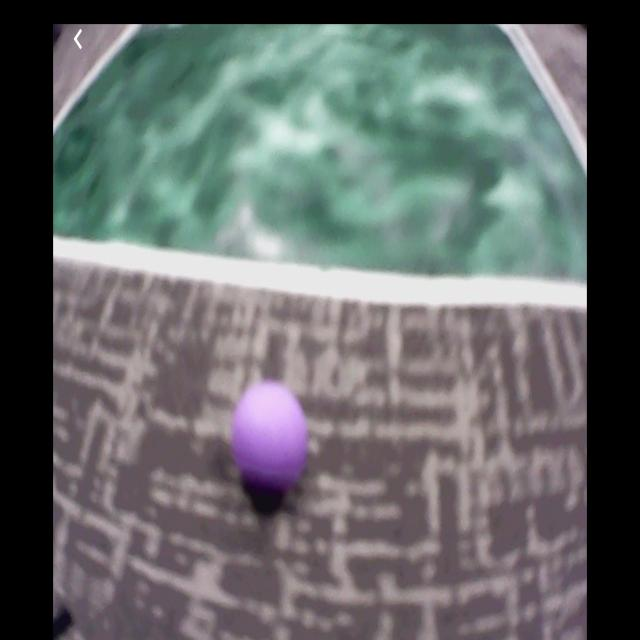ball: (232, 383, 309, 488)
